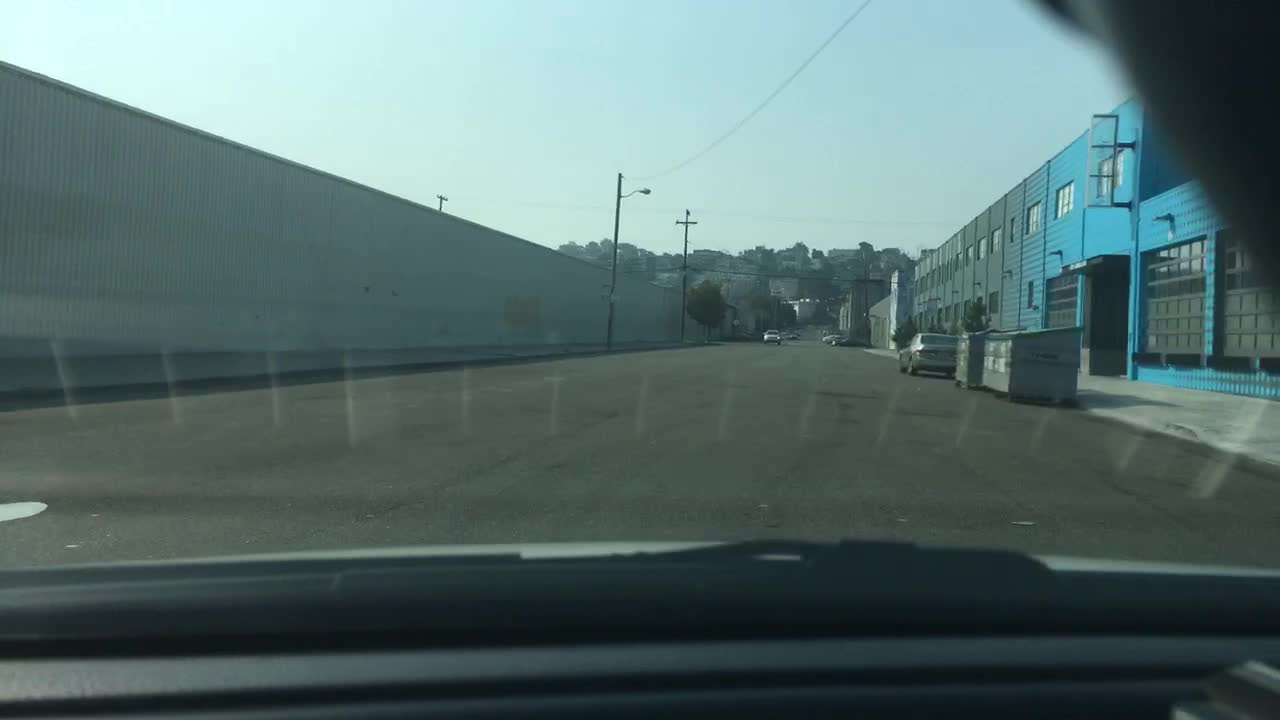car: (897, 332, 960, 375), (832, 335, 869, 349), (762, 329, 783, 345), (821, 334, 842, 343), (779, 332, 797, 341), (821, 329, 840, 335), (780, 328, 795, 334), (793, 328, 802, 336)
